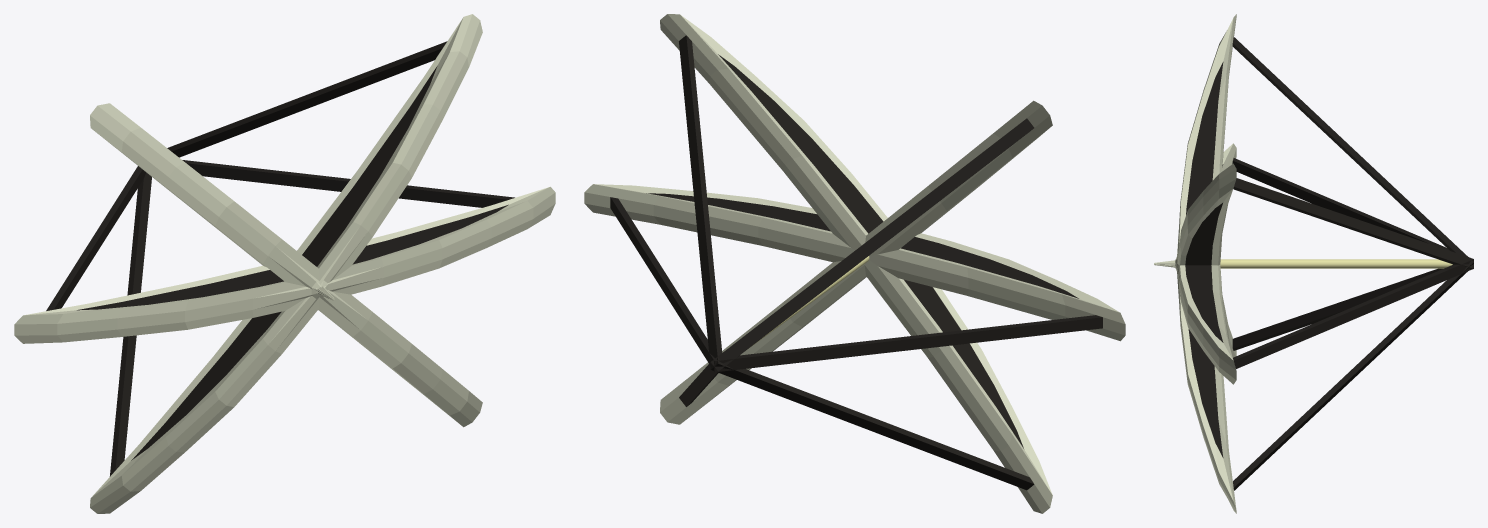
The model's file is Bone Ballista.fbx.
The picture shows the model from 3 angles, left to right: view 1: azimuth 30°, elevation 25°; view 2: azimuth 150°, elevation 25°; view 3: azimuth 270°, elevation 25°; orthographic projection. The views are drawn at different scales.
Visible parts, largest first — view 1: BowArm1, BowArmBase, BowArm2, BowString, BowString.001; view 2: BowArm1, BowArmBase, BowArm2, BowString, BowString.001, BowString.002; view 3: BowArm2, BowString.002, BowString.001, BowString, BowArmBase, BowArm1, ArrowShaft.
Boxes of the visible parts, box(x1,y1,x2,y2) form: BowArm1: box(90, 14, 482, 513); BowArmBase: box(14, 186, 555, 343); BowArm2: box(90, 103, 482, 427); BowString: box(109, 41, 447, 476); BowString.001: box(46, 160, 514, 310); BowArm1: box(660, 14, 1052, 513); BowArmBase: box(584, 184, 1125, 341); BowArm2: box(660, 100, 1052, 424); BowString: box(679, 35, 1034, 490); BowString.001: box(610, 197, 1102, 372); BowString.002: box(679, 118, 1034, 406); BowArm2: box(1155, 14, 1236, 513); BowString.002: box(1232, 37, 1473, 490); BowString.001: box(1232, 158, 1473, 368); BowString: box(1232, 178, 1473, 350); BowArmBase: box(1154, 143, 1236, 384); BowArm1: box(1154, 163, 1236, 357); ArrowShaft: box(1220, 259, 1452, 268).
Size of the model in its own units: 427 by 310 by 259.
